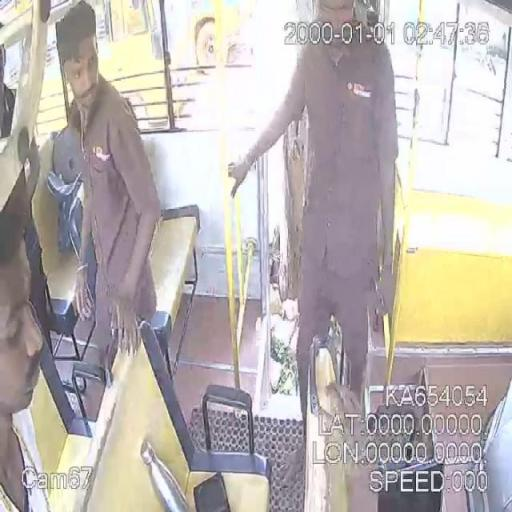persona: (227, 0, 401, 510), (226, 0, 401, 424), (51, 2, 162, 388)
